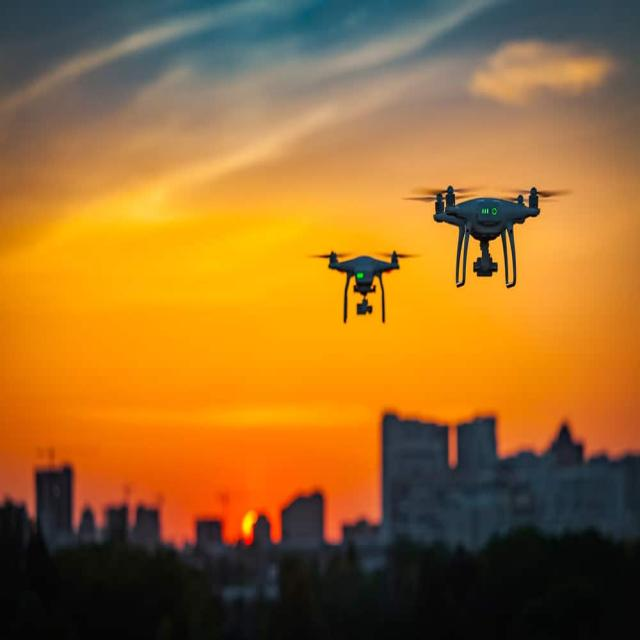drone: (399, 174, 583, 299), (310, 245, 421, 326)
